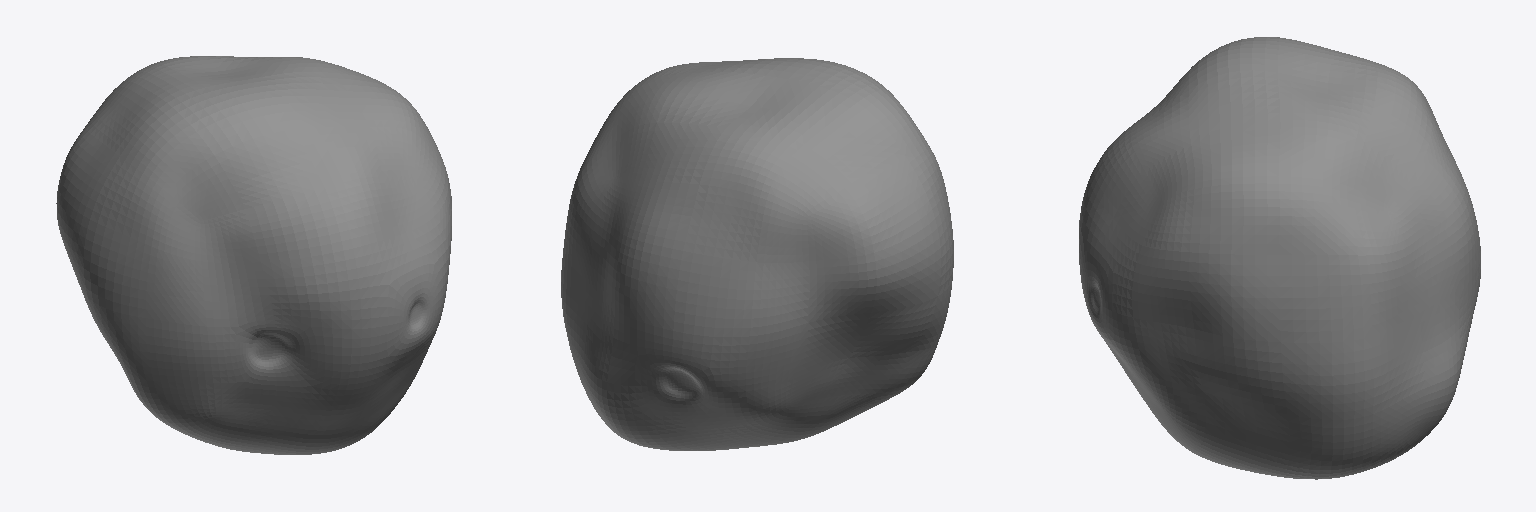
Rendered from asteroid.obj.
3 renders of one model, left to right at view 1: azimuth 30°, elevation 25°; view 2: azimuth 150°, elevation 25°; view 3: azimuth 270°, elevation 25°, orthographic.
Parts seen in each view (by area): view 1: asteroid; view 2: asteroid; view 3: asteroid.
Boxes of the visible parts, x1,y1,x2,y2 form: asteroid: [56, 56, 451, 454]; asteroid: [561, 58, 953, 450]; asteroid: [1079, 37, 1480, 479].
Bounding box in the file's own units: 1365 × 1383 × 1377.